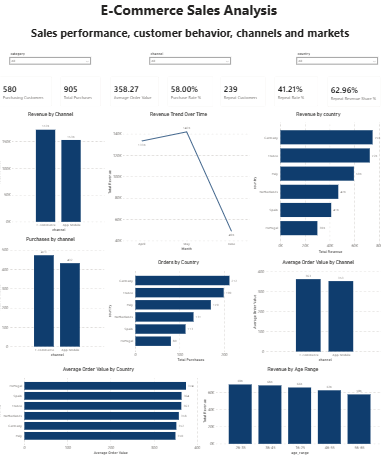

The page's visual inventory and layout, read from the dashboard file:
{"tool":"powerbi","page":{"name":"Page 1","canvas":[1500,1900],"ordinal":0},"visuals":[{"type":"cardVisual","fields":{"Data":["ecommerce_sales_analytics customers.Purchasing Customers"]},"box":[0,281.2,236.2,149.3],"z":0},{"type":"cardVisual","fields":{"Data":["ecommerce_sales_analytics customers.Total Purchases"]},"box":[236.2,281.2,189.9,149.3],"z":1000},{"type":"cardVisual","fields":{"Data":["ecommerce_sales_analytics customers.Average Order Value"]},"box":[426.1,281.2,220.3,149.3],"z":2000},{"type":"cardVisual","fields":{"Data":["ecommerce_sales_analytics customers.Purchase Rate %"]},"box":[646.4,281.2,210.1,150.7],"z":3000},{"type":"cardVisual","fields":{"Data":["ecommerce_sales_analytics customers.Repeat Customers"]},"box":[850.7,281.2,208.7,150.7],"z":4000},{"type":"cardVisual","fields":{"Data":["ecommerce_sales_analytics customers.Repeat Rate %"]},"box":[1059.4,281.2,202.9,149.3],"z":5000},{"type":"cardVisual","fields":{"Data":["ecommerce_sales_analytics customers.Repeat Revenue Share %"]},"box":[1262.3,281.2,238,151],"z":6000},{"type":"clusteredColumnChart","title":"Revenue by Channel","fields":{"Category":["ecommerce_sales_analytics sales.channel"],"Y":["ecommerce_sales_analytics customers.Total Revenue"]},"box":[0,430.4,427,470.3],"z":7000},{"type":"lineChart","title":"Revenue Trend Over Time","fields":{"Category":["ecommerce_sales_analytics sales.sale_date.Variation.Date Hierarchy.Month"],"Y":["ecommerce_sales_analytics customers.Total Revenue"]},"box":[426.1,430.4,556.7,543.3],"z":8000},{"type":"barChart","title":"Revenue by country","fields":{"Category":["ecommerce_sales_analytics customers.country"],"Y":["ecommerce_sales_analytics customers.Total Revenue"]},"box":[984.1,430.4,516.7,553.3],"z":9000},{"type":"clusteredColumnChart","title":"Purchases by channel","fields":{"Category":["ecommerce_sales_analytics sales.channel"],"Y":["ecommerce_sales_analytics customers.Total Purchases"]},"box":[0,911.9,425.4,469.5],"z":10000},{"type":"clusteredBarChart","title":"Orders by Country","fields":{"Category":["ecommerce_sales_analytics sales.country"],"Y":["ecommerce_sales_analytics customers.Total Purchases"]},"box":[426.1,1000,556.8,400],"z":11000},{"type":"clusteredColumnChart","title":"Average Order Value by Channel","fields":{"Category":["ecommerce_sales_analytics sales.channel"],"Y":["ecommerce_sales_analytics customers.Average Order Value"]},"box":[984.1,1000,516.2,400],"z":12000},{"type":"clusteredBarChart","title":"Average Order Value by Country","fields":{"Category":["ecommerce_sales_analytics customers.country"],"Y":["ecommerce_sales_analytics customers.Average Order Value"]},"box":[0,1411.6,794.6,345.9],"z":13000},{"type":"textbox","box":[0,0,1500,94.6],"z":14001},{"type":"textbox","box":[0,94.6,1500,100],"z":14002},{"type":"slicer","fields":{"Values":["ecommerce_sales_analytics customers.country"]},"box":[1148.6,194.6,332.4,86.5],"z":14003},{"type":"slicer","fields":{"Values":["ecommerce_sales_analytics sales.channel"]},"box":[583.8,194.6,332.4,86.5],"z":14004},{"type":"slicer","fields":{"Values":["ecommerce_sales_analytics products.category"]},"box":[45.9,194.6,332.4,86.5],"z":14005},{"type":"clusteredColumnChart","title":"Revenue by Age Range","fields":{"Category":["ecommerce_sales_analytics customers.age_range"],"Y":["ecommerce_sales_analytics customers.Total Revenue"]},"box":[794.2,1411.6,705.8,346.4],"z":14006}]}

Visuals, with their boxes on the page's 1500x1900 design canvas (x1, y1, x2, y2). These are canvas units, not pixel positions in the 381x466 screenshot, which may show the page scaled, cropped or inside an application window:
cardVisual - ecommerce_sales_analytics customers.Purchasing Customers: (0, 281, 236, 430)
cardVisual - ecommerce_sales_analytics customers.Total Purchases: (236, 281, 426, 430)
cardVisual - ecommerce_sales_analytics customers.Average Order Value: (426, 281, 646, 430)
cardVisual - ecommerce_sales_analytics customers.Purchase Rate %: (646, 281, 856, 432)
cardVisual - ecommerce_sales_analytics customers.Repeat Customers: (851, 281, 1059, 432)
cardVisual - ecommerce_sales_analytics customers.Repeat Rate %: (1059, 281, 1262, 430)
cardVisual - ecommerce_sales_analytics customers.Repeat Revenue Share %: (1262, 281, 1500, 432)
"Revenue by Channel" clusteredColumnChart: (0, 430, 427, 901)
"Revenue Trend Over Time" lineChart: (426, 430, 983, 974)
"Revenue by country" barChart: (984, 430, 1501, 984)
"Purchases by channel" clusteredColumnChart: (0, 912, 425, 1381)
"Orders by Country" clusteredBarChart: (426, 1000, 983, 1400)
"Average Order Value by Channel" clusteredColumnChart: (984, 1000, 1500, 1400)
"Average Order Value by Country" clusteredBarChart: (0, 1412, 795, 1758)
textbox: (0, 0, 1500, 95)
textbox: (0, 95, 1500, 195)
slicer - ecommerce_sales_analytics customers.country: (1149, 195, 1481, 281)
slicer - ecommerce_sales_analytics sales.channel: (584, 195, 916, 281)
slicer - ecommerce_sales_analytics products.category: (46, 195, 378, 281)
"Revenue by Age Range" clusteredColumnChart: (794, 1412, 1500, 1758)
